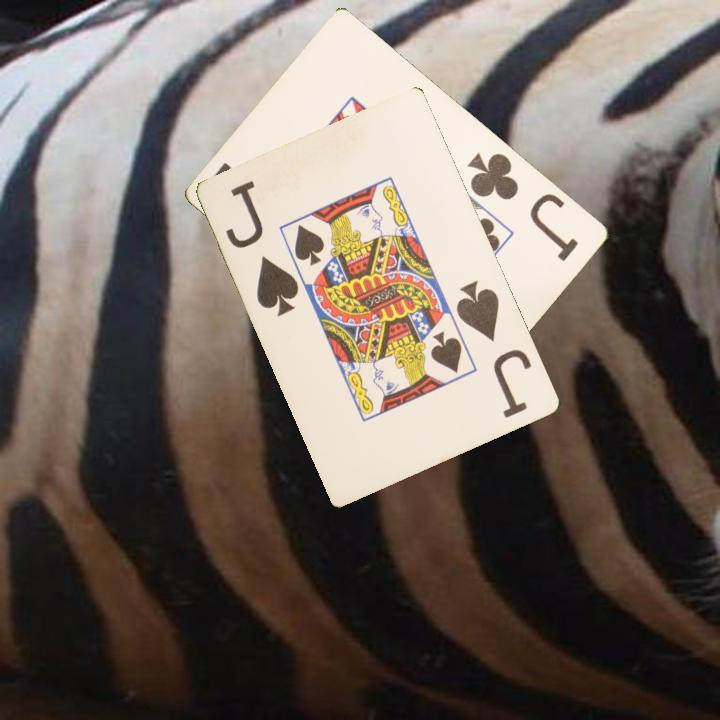Jc: (465, 149, 582, 265)
Js: (453, 277, 536, 421), (222, 176, 303, 320)
